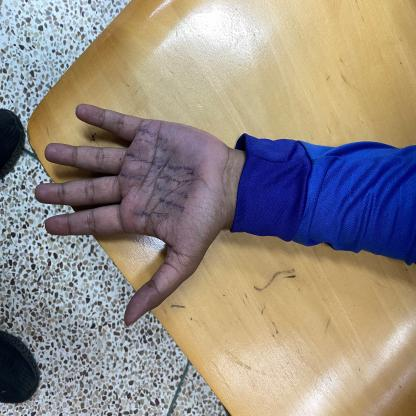hand: (34, 84, 416, 335)
